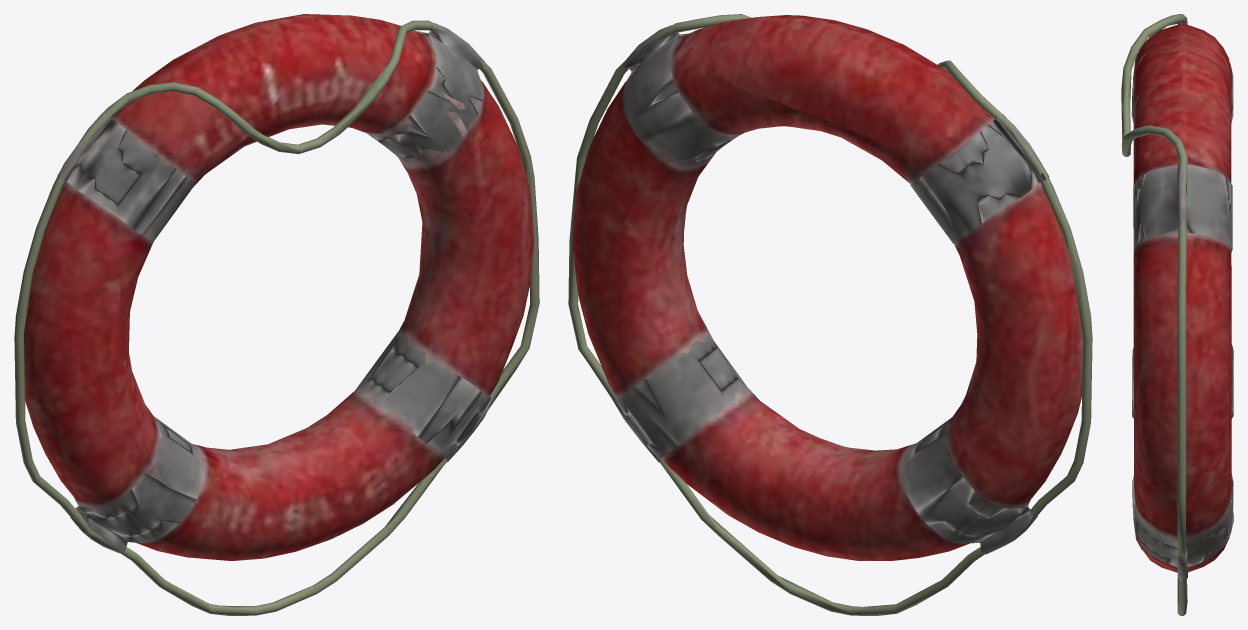
Rendered from lifebuoy.glb.
The picture shows the model from 3 angles, left to right: view 1: azimuth 30°, elevation 25°; view 2: azimuth 150°, elevation 25°; view 3: azimuth 270°, elevation 25°; orthographic projection. The views are drawn at different scales.
Parts seen in each view (by area): view 1: lifebuoy; view 2: lifebuoy; view 3: lifebuoy.
Boxes of the visible parts, <box> form: lifebuoy: <box>14,14,539,615</box>; lifebuoy: <box>568,14,1092,615</box>; lifebuoy: <box>1121,14,1233,615</box>.
Size of the model in its own units: 0.783 by 0.8412 by 0.1548.
Materials: 1 (1 with a texture image).
